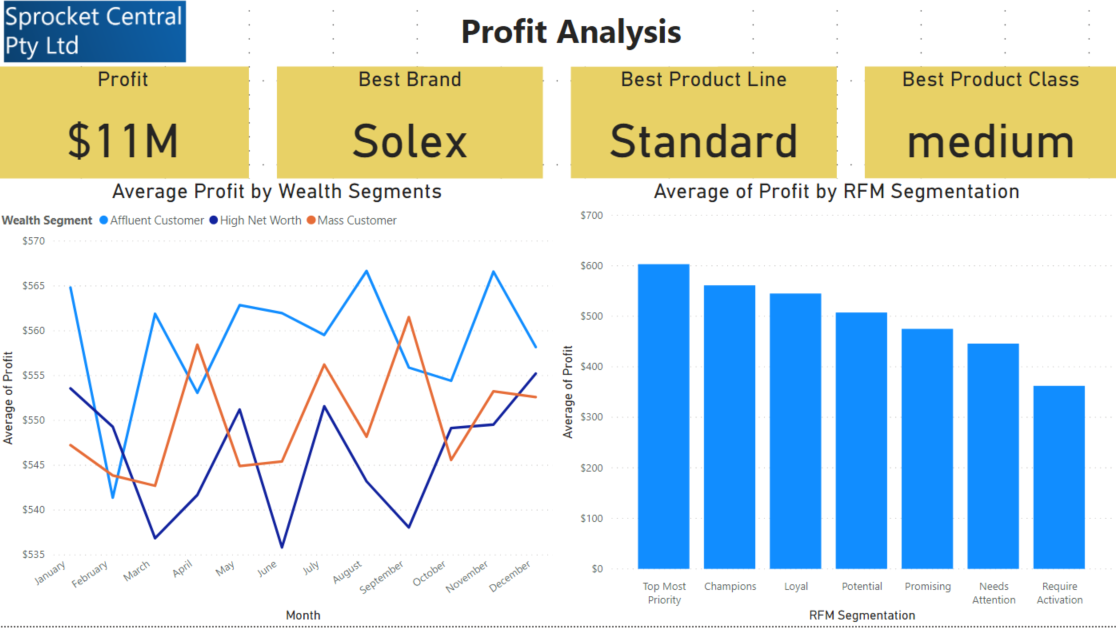

What the dashboard file says about the page in this screenshot:
{"tool":"powerbi","page":{"name":"Overview","canvas":[1280,720],"ordinal":1},"visuals":[{"type":"lineChart","title":"Average Profit by Wealth Segments","fields":{"Y":["Avg(FinalDataset.Profit)"],"Series":["FinalDataset.wealth_segment"],"Category":["Transactions.transaction_date.Variation.Date Hierarchy.Month","Transactions.brand"]},"box":[0,208,640,512],"z":0},{"type":"card","title":"Profit","fields":{"Values":["Sum(FinalDataset.Profit)"]},"box":[0,80,288,128],"z":1000},{"type":"card","title":"Best Brand","fields":{"Values":["Transactions.Best Brand"]},"box":[320,80,304,128],"z":2000},{"type":"card","title":"Best Product Line","fields":{"Values":["Transactions.Best Product Line"]},"box":[656,80,304,128],"z":3000},{"type":"card","title":"Best Product Class","fields":{"Values":["Transactions.Best Product Class"]},"box":[992,80,288,128],"z":4000},{"type":"clusteredColumnChart","fields":{"Y":["Avg(FinalDataset.Profit)"],"Category":["RFM_Analysis.RFM_Level"]},"box":[640,208,640,512],"z":5000},{"type":"textbox","box":[488,8,336,72],"z":7000},{"type":"image","box":[0,0,272,80],"z":7001}]}

Visuals, with their boxes in screenshot pixels (x1, y1, x2, y2), scaled from the page's 1280x720 canvas onto the 1116x628 screenshot:
"Average Profit by Wealth Segments" lineChart: locate(0, 181, 558, 627)
"Profit" card: locate(0, 70, 251, 181)
"Best Brand" card: locate(279, 70, 544, 181)
"Best Product Line" card: locate(572, 70, 837, 181)
"Best Product Class" card: locate(865, 70, 1115, 181)
clusteredColumnChart - Avg(FinalDataset.Profit) x RFM_Analysis.RFM_Level: locate(558, 181, 1115, 627)
textbox: locate(425, 7, 718, 70)
image: locate(0, 0, 237, 70)
